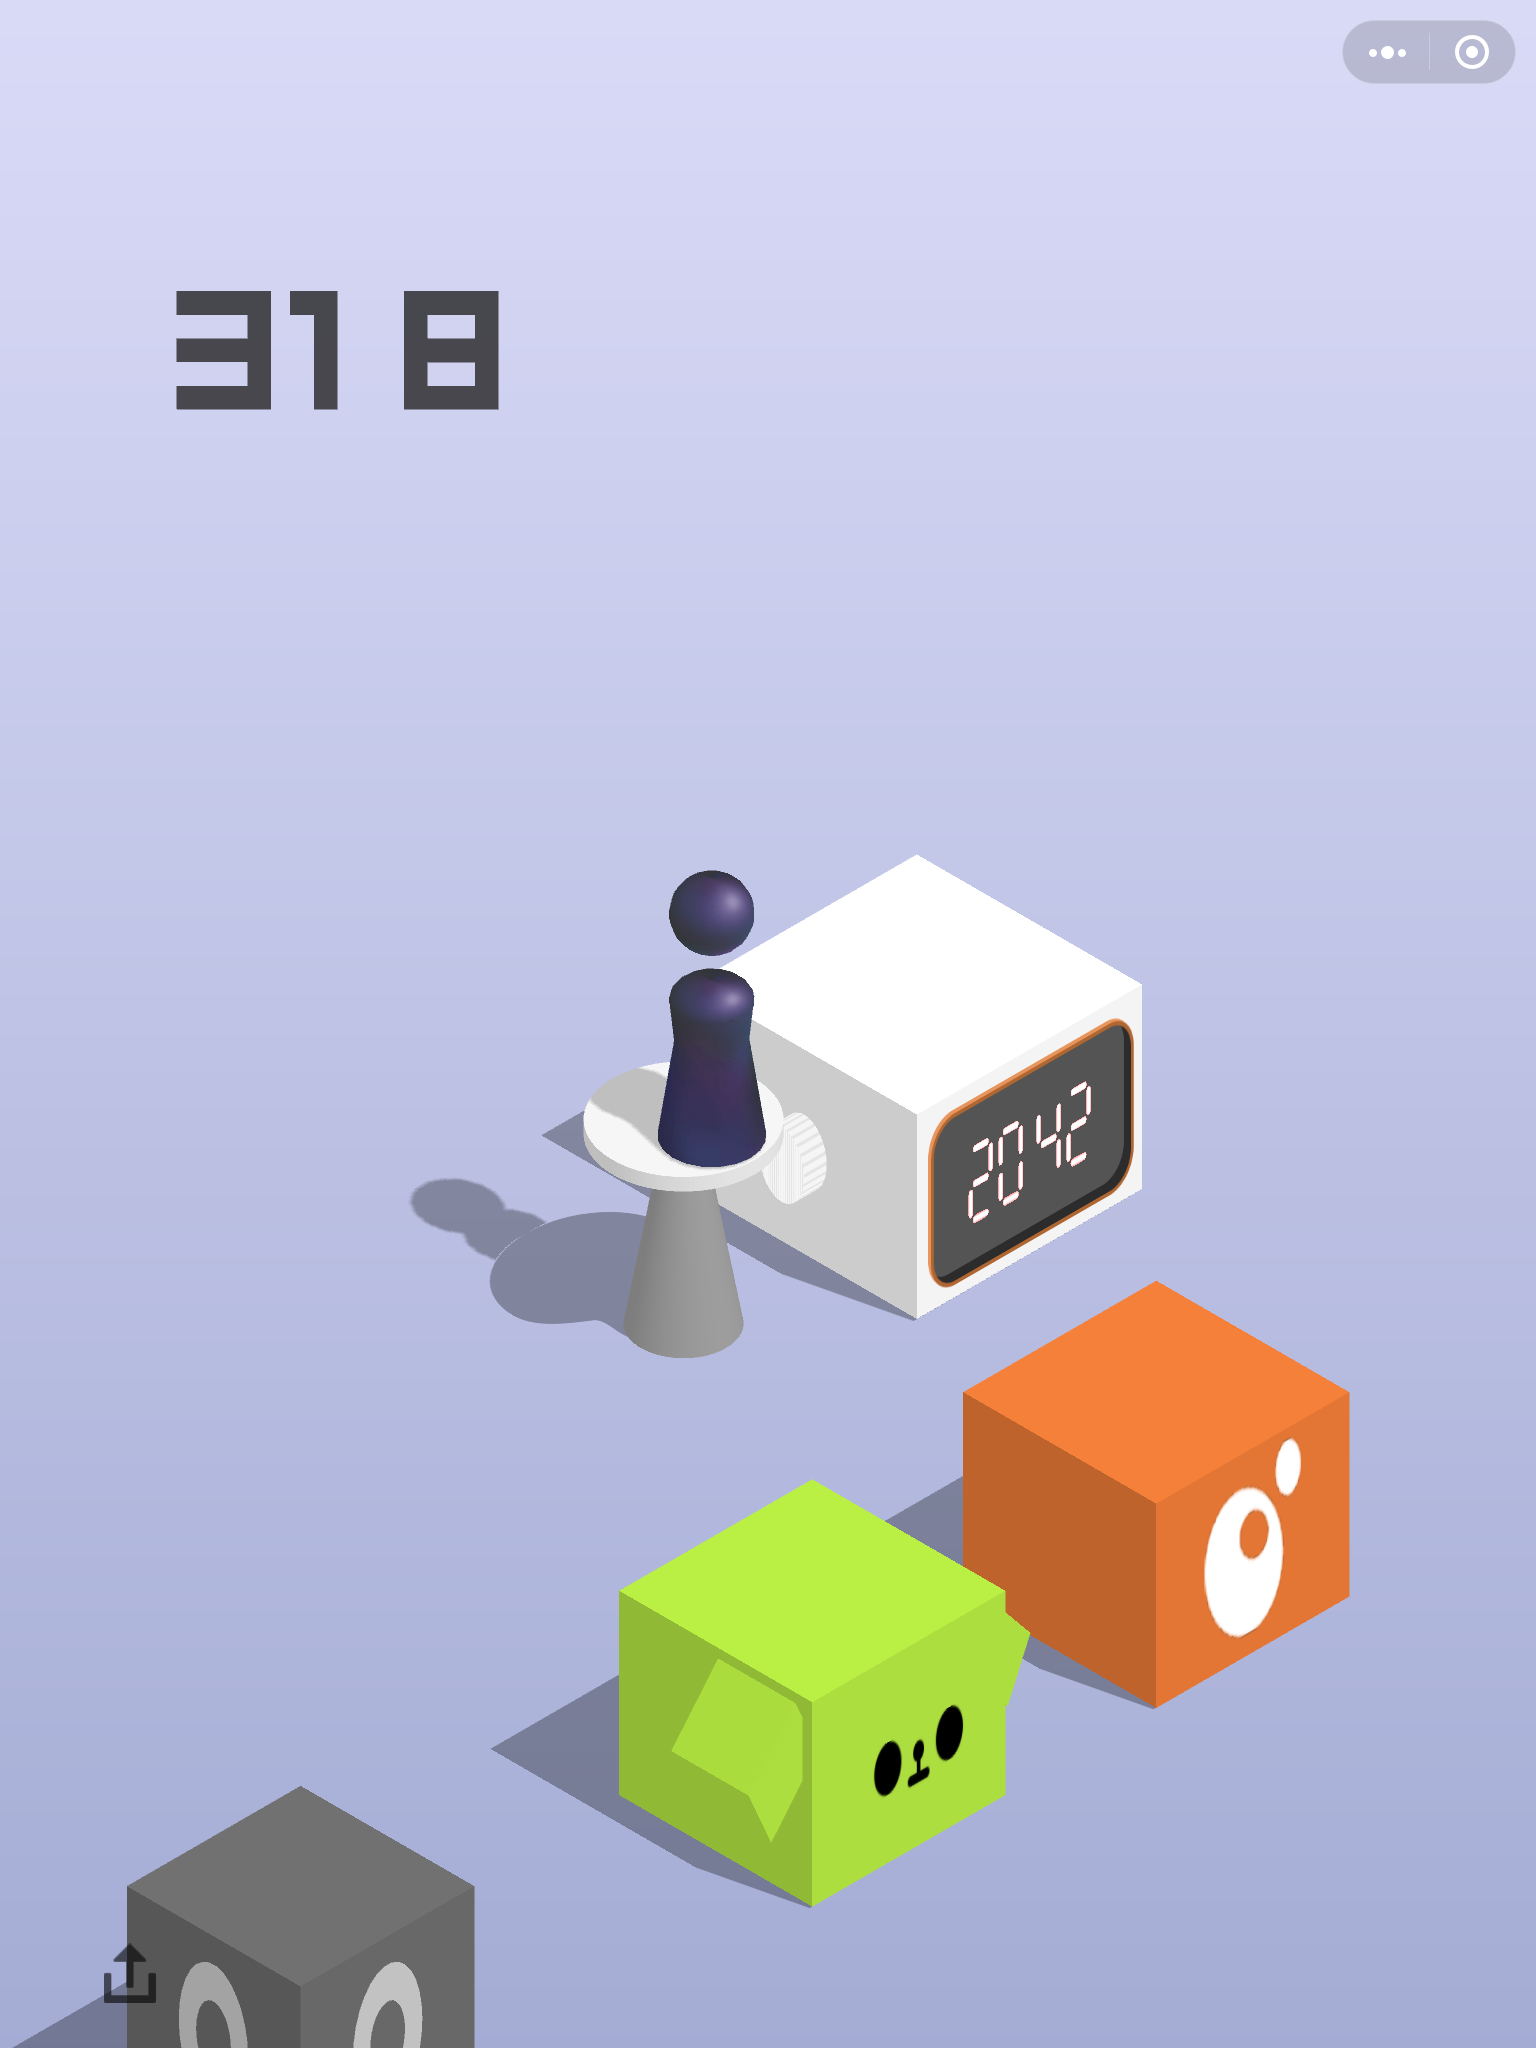c: (581, 1058, 784, 1359)
f: (687, 853, 1146, 1317), (615, 1479, 1012, 1908), (960, 1279, 1354, 1709), (123, 1787, 479, 2048)
r: (657, 868, 768, 1168)
